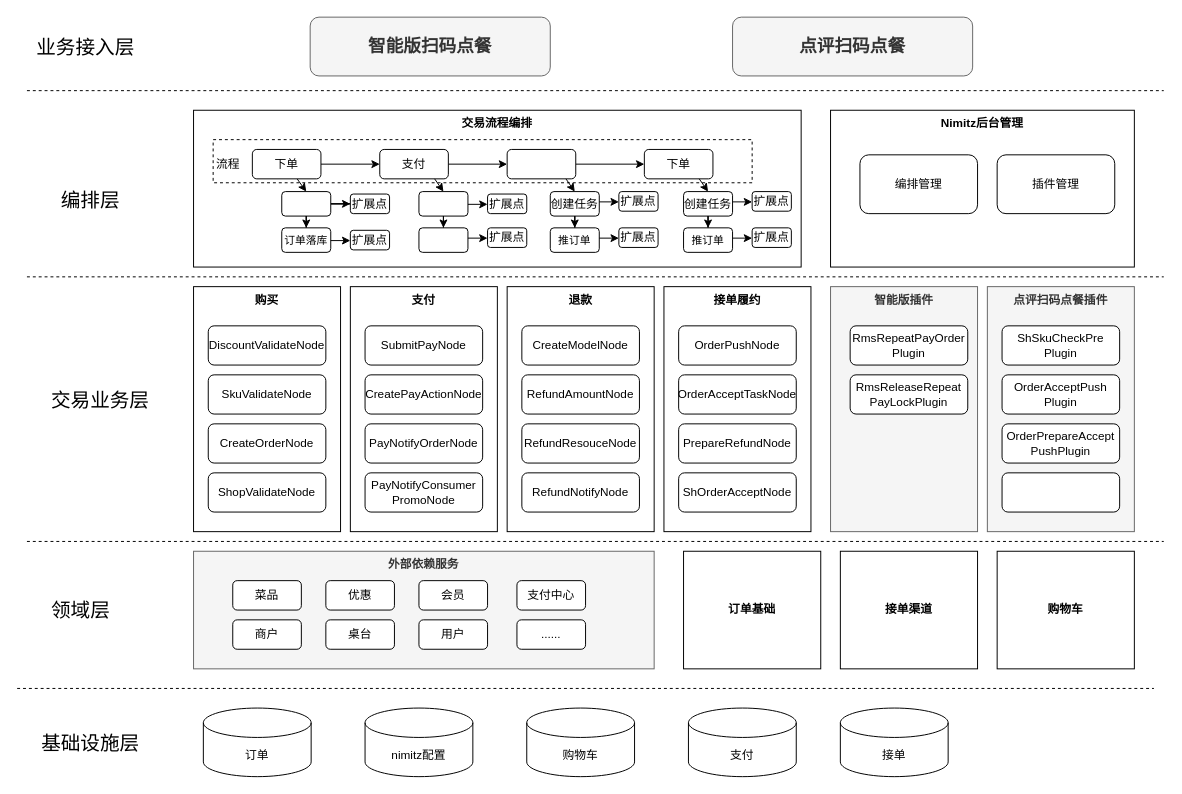
The diagram is 1182 pixels wide and 794 high, and some of its shapes have lost their labels. Each missing label, with the centre of its shape:
"推单" goes at point 541,163.
"更新状态" goes at point 443,203.
"校验" goes at point 306,203.
"核销优惠" goes at point 443,239.
